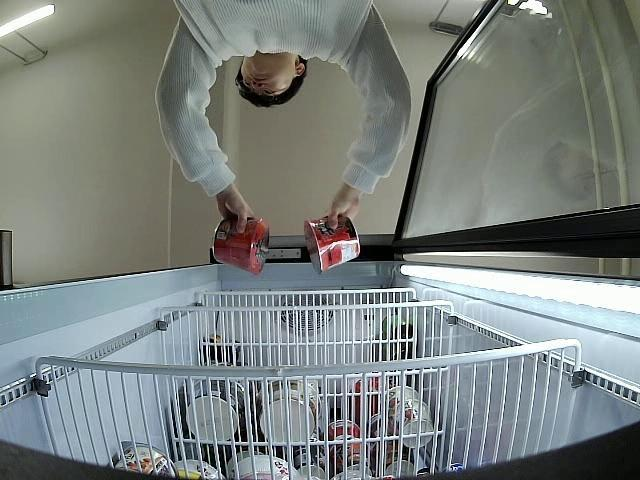01_ShinRamen_L: (212, 214, 270, 274), (304, 216, 360, 274)
